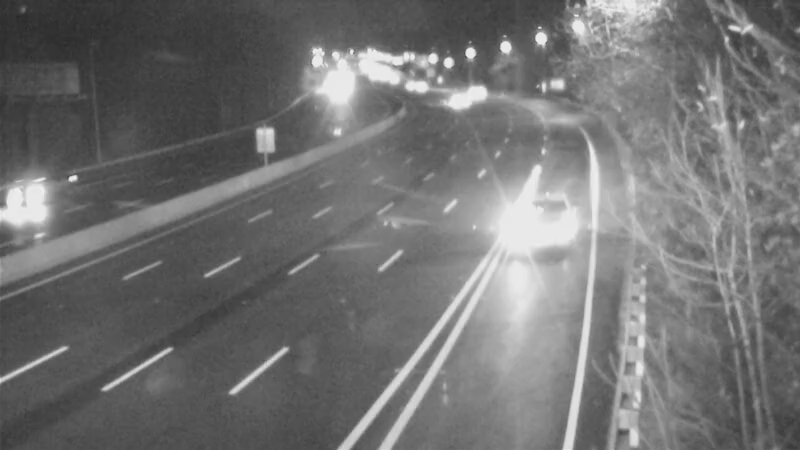vehicle: (511, 192, 591, 272), (1, 156, 76, 236), (448, 64, 498, 114), (432, 79, 482, 129)
